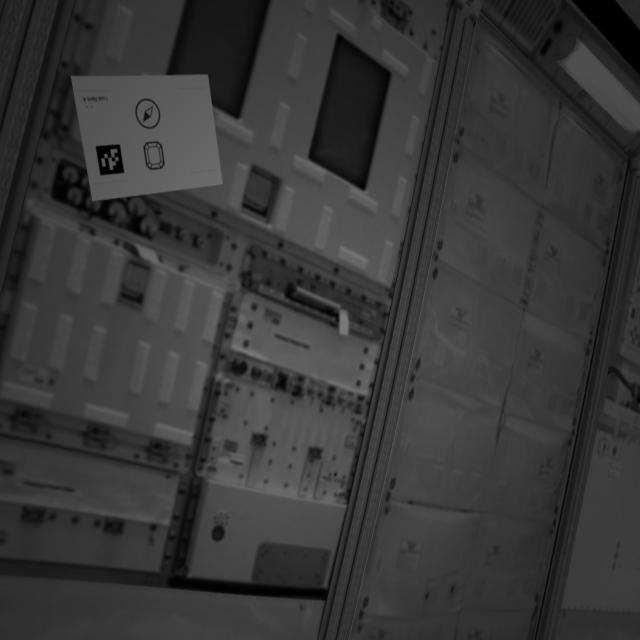compass: (133, 96, 165, 131)
emerald: (140, 130, 173, 176)
